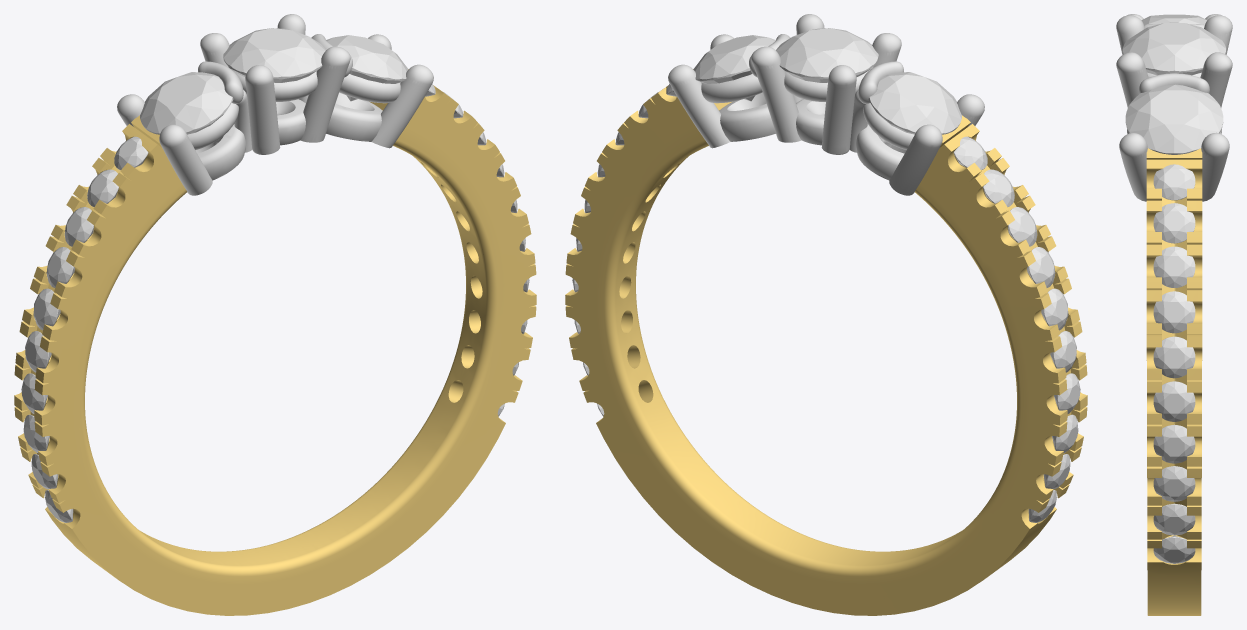
Rendered from JeremyVersion1YGPT.glb.
3 renders of one model, left to right at view 1: azimuth 30°, elevation 25°; view 2: azimuth 150°, elevation 25°; view 3: azimuth 270°, elevation 25°, orthographic.
Parts seen in each view (by area): view 1: Jeremy version 1 YG for 3d model, Jeremy version 1 dia for 3d model.020, Jeremy version 1 dia for 3d model.021, Jeremy version 1 PT for 3d model.017, Jeremy version 1 PT for 3d model.016, Jeremy version 1 dia for 3d model.022, Jeremy version 1 PT for 3d model.013, Jeremy version 1 PT for 3d model.021, Jeremy version 1 PT for 3d model.009, Jeremy version 1 PT for 3d model.010, Jeremy version 1 PT for 3d model.011, Jeremy version 1 PT for 3d model.008 (+10 smaller); view 2: Jeremy version 1 YG for 3d model, Jeremy version 1 dia for 3d model.020, Jeremy version 1 dia for 3d model.021, Jeremy version 1 PT for 3d model.018, Jeremy version 1 PT for 3d model.015, Jeremy version 1 dia for 3d model.022, Jeremy version 1 PT for 3d model.012, Jeremy version 1 PT for 3d model.020, Jeremy version 1 PT for 3d model.009, Jeremy version 1 PT for 3d model.010, Jeremy version 1 PT for 3d model.011, Jeremy version 1 PT for 3d model.008 (+10 smaller); view 3: Jeremy version 1 YG for 3d model, Jeremy version 1 dia for 3d model.022, Jeremy version 1 dia for 3d model.021, Jeremy version 1 PT for 3d model.012, Jeremy version 1 PT for 3d model.013, Jeremy version 1 dia for 3d model.003, Jeremy version 1 dia for 3d model.002, Jeremy version 1 dia for 3d model.004, Jeremy version 1 dia for 3d model.005, Jeremy version 1 dia for 3d model.001, Jeremy version 1 dia for 3d model.006, Jeremy version 1 dia for 3d model (+9 smaller).
Part boxes in pixels (bbox=[...]): Jeremy version 1 YG for 3d model: bbox=[14, 69, 536, 615]; Jeremy version 1 dia for 3d model.020: bbox=[140, 72, 233, 134]; Jeremy version 1 dia for 3d model.021: bbox=[223, 28, 325, 82]; Jeremy version 1 PT for 3d model.017: bbox=[300, 46, 350, 142]; Jeremy version 1 PT for 3d model.016: bbox=[245, 65, 280, 154]; Jeremy version 1 dia for 3d model.022: bbox=[326, 35, 408, 101]; Jeremy version 1 PT for 3d model.013: bbox=[371, 64, 433, 148]; Jeremy version 1 PT for 3d model.021: bbox=[159, 124, 212, 195]; Jeremy version 1 PT for 3d model.009: bbox=[326, 92, 382, 141]; Jeremy version 1 PT for 3d model.010: bbox=[195, 124, 245, 180]; Jeremy version 1 PT for 3d model.011: bbox=[339, 74, 400, 103]; Jeremy version 1 PT for 3d model.008: bbox=[276, 99, 305, 145]; Jeremy version 1 YG for 3d model: bbox=[565, 69, 1087, 615]; Jeremy version 1 dia for 3d model.020: bbox=[868, 72, 961, 134]; Jeremy version 1 dia for 3d model.021: bbox=[776, 28, 878, 82]; Jeremy version 1 PT for 3d model.018: bbox=[751, 46, 801, 142]; Jeremy version 1 PT for 3d model.015: bbox=[821, 65, 856, 154]; Jeremy version 1 dia for 3d model.022: bbox=[693, 35, 775, 101]; Jeremy version 1 PT for 3d model.012: bbox=[668, 64, 730, 148]; Jeremy version 1 PT for 3d model.020: bbox=[889, 124, 942, 195]; Jeremy version 1 PT for 3d model.009: bbox=[719, 92, 775, 141]; Jeremy version 1 PT for 3d model.010: bbox=[856, 124, 906, 180]; Jeremy version 1 PT for 3d model.011: bbox=[701, 74, 762, 103]; Jeremy version 1 PT for 3d model.008: bbox=[796, 99, 825, 145]; Jeremy version 1 YG for 3d model: bbox=[1146, 148, 1202, 615]; Jeremy version 1 dia for 3d model.022: bbox=[1125, 84, 1223, 154]; Jeremy version 1 dia for 3d model.021: bbox=[1122, 22, 1226, 75]; Jeremy version 1 PT for 3d model.012: bbox=[1201, 132, 1229, 201]; Jeremy version 1 PT for 3d model.013: bbox=[1119, 132, 1147, 201]; Jeremy version 1 dia for 3d model.003: bbox=[1153, 291, 1195, 333]; Jeremy version 1 dia for 3d model.002: bbox=[1153, 246, 1195, 287]; Jeremy version 1 dia for 3d model.004: bbox=[1153, 336, 1195, 378]; Jeremy version 1 dia for 3d model.005: bbox=[1153, 381, 1195, 421]; Jeremy version 1 dia for 3d model.001: bbox=[1153, 203, 1195, 243]; Jeremy version 1 dia for 3d model.006: bbox=[1153, 424, 1195, 463]; Jeremy version 1 dia for 3d model: bbox=[1153, 164, 1195, 200].
Bounding box in the file's own units: 20.37 × 21.93 × 4.17.
